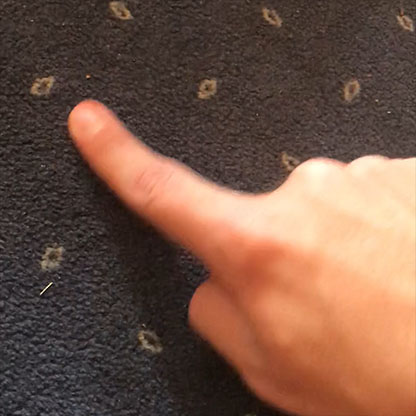fingertip: (59, 97, 121, 151)
